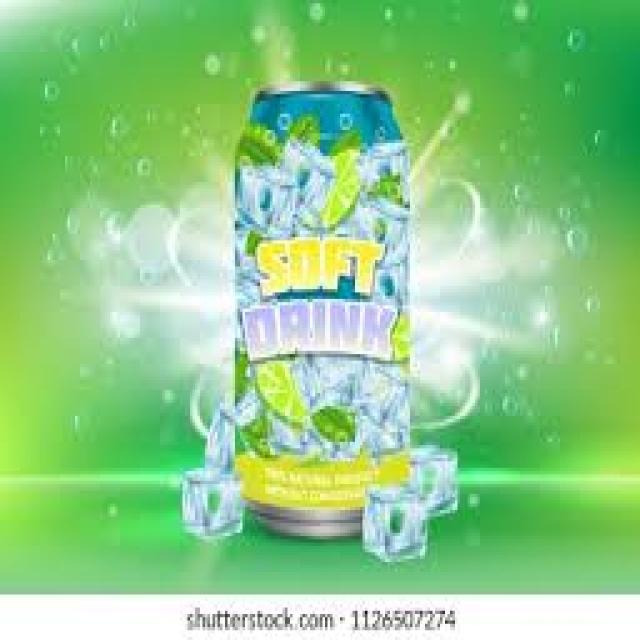Cans: (225, 62, 427, 549)
